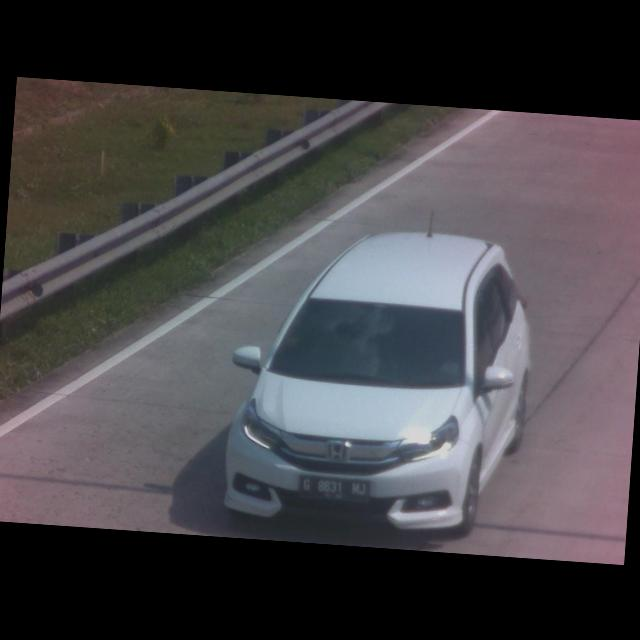plate: (294, 471, 373, 504)
